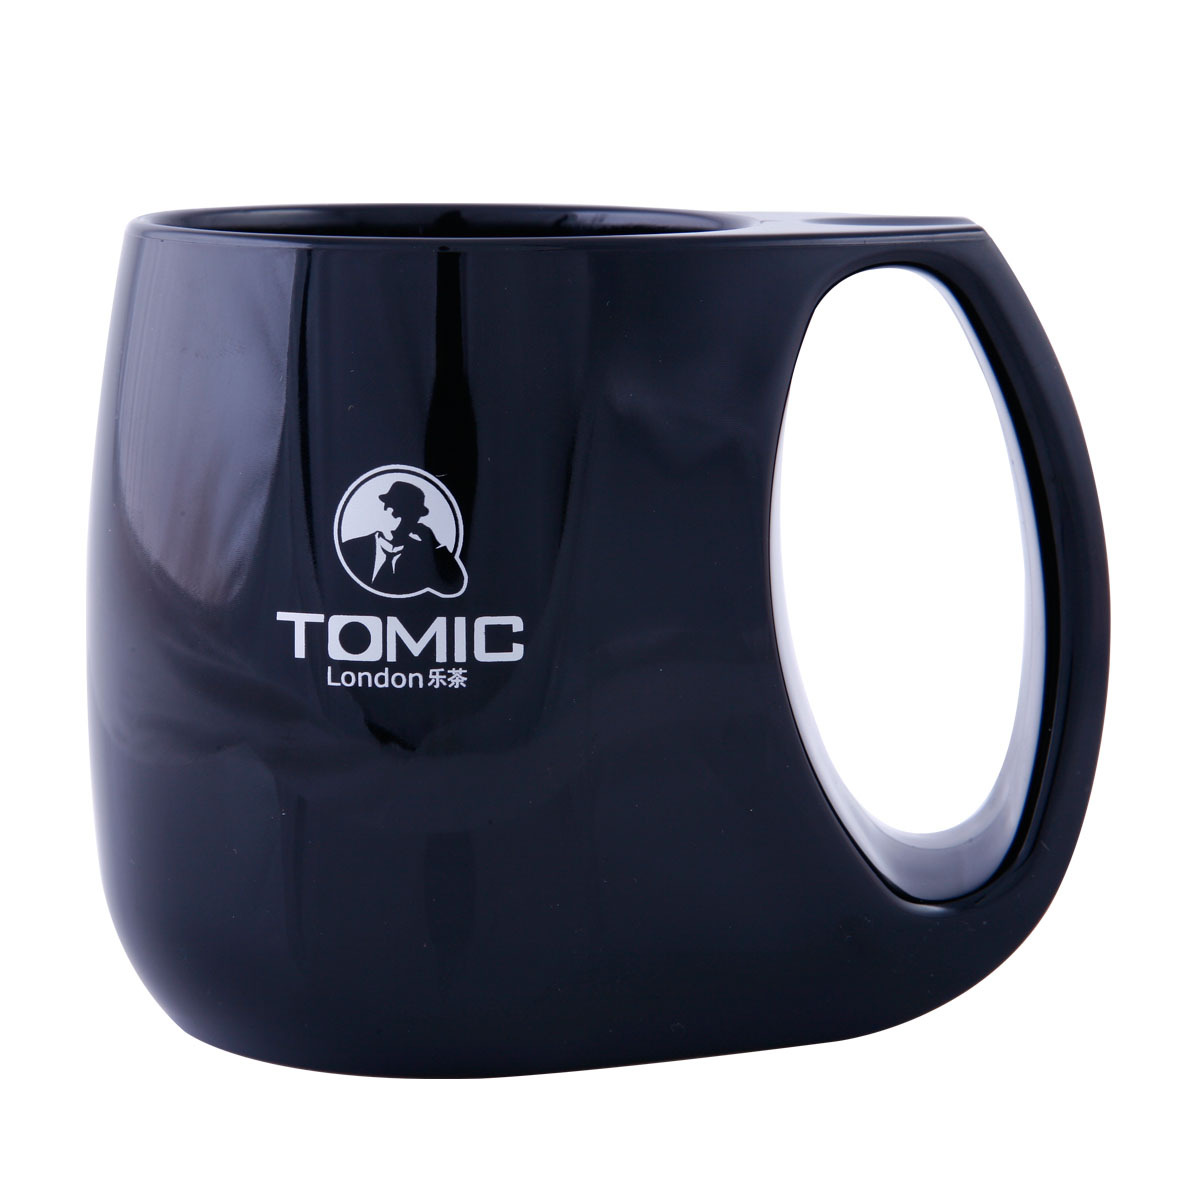cup: (77, 196, 1116, 1081)
